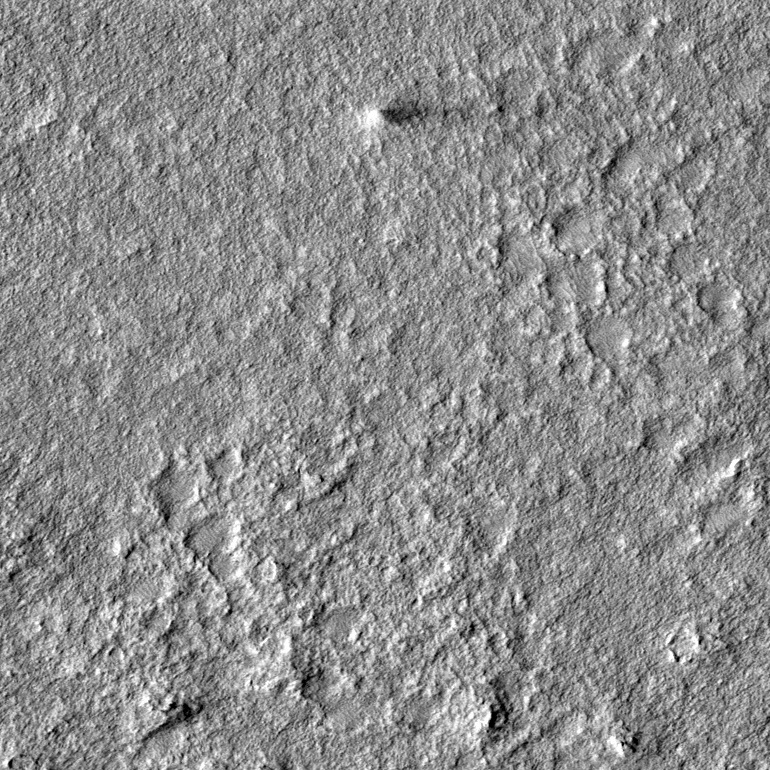dust_devil: (364, 104, 431, 126)
